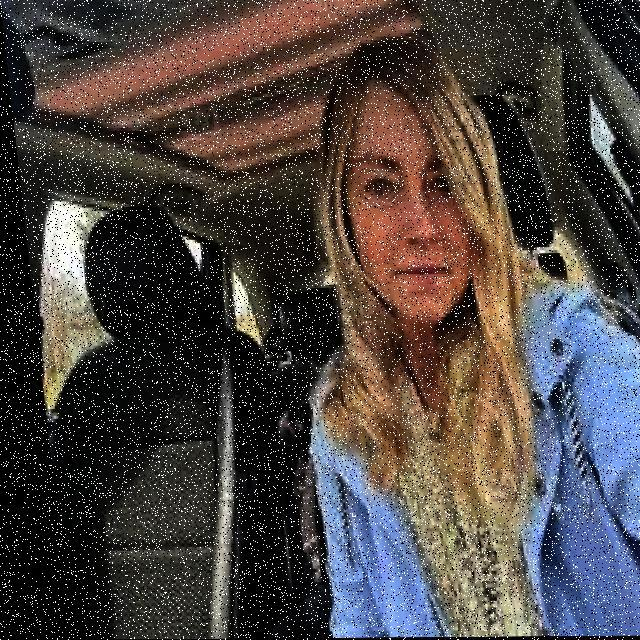noSeatbelt: (279, 284, 640, 638)
